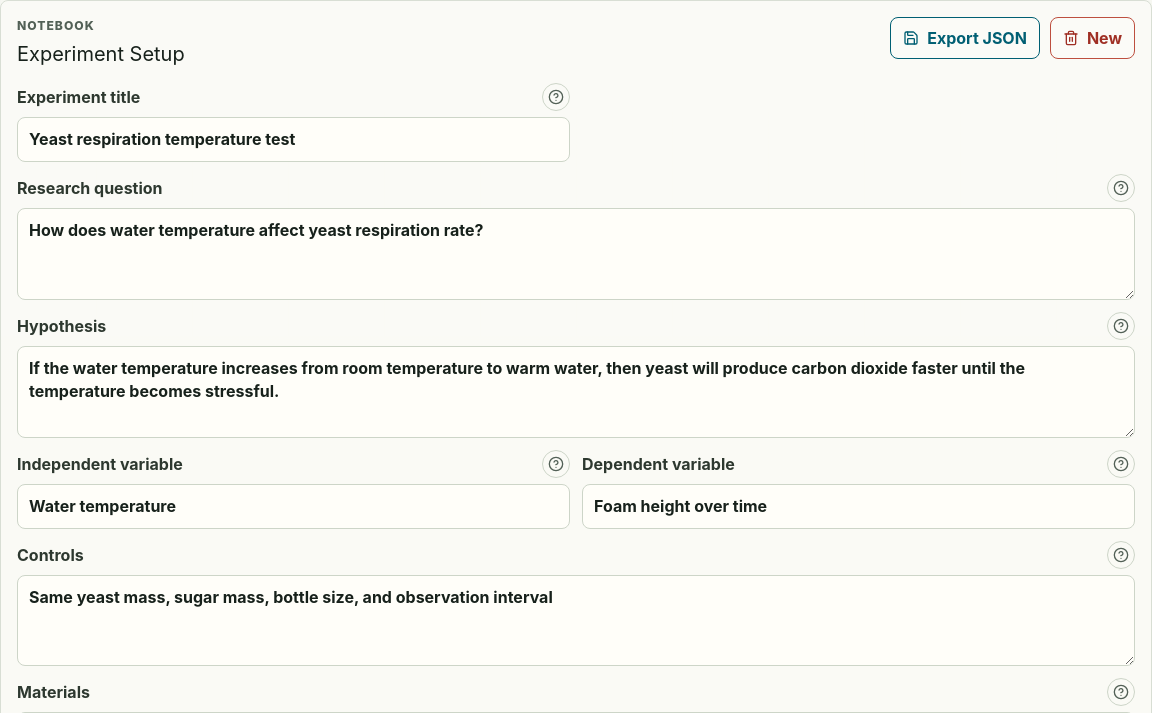
Test: ExperimentSetup › collapses an open hint when its toggle is pressed a second time
This screenshot has width=1152, height=713.
Click the button named "what does \"hypothesis\" mean" at (1121, 326), box [1107,312,1135,340]
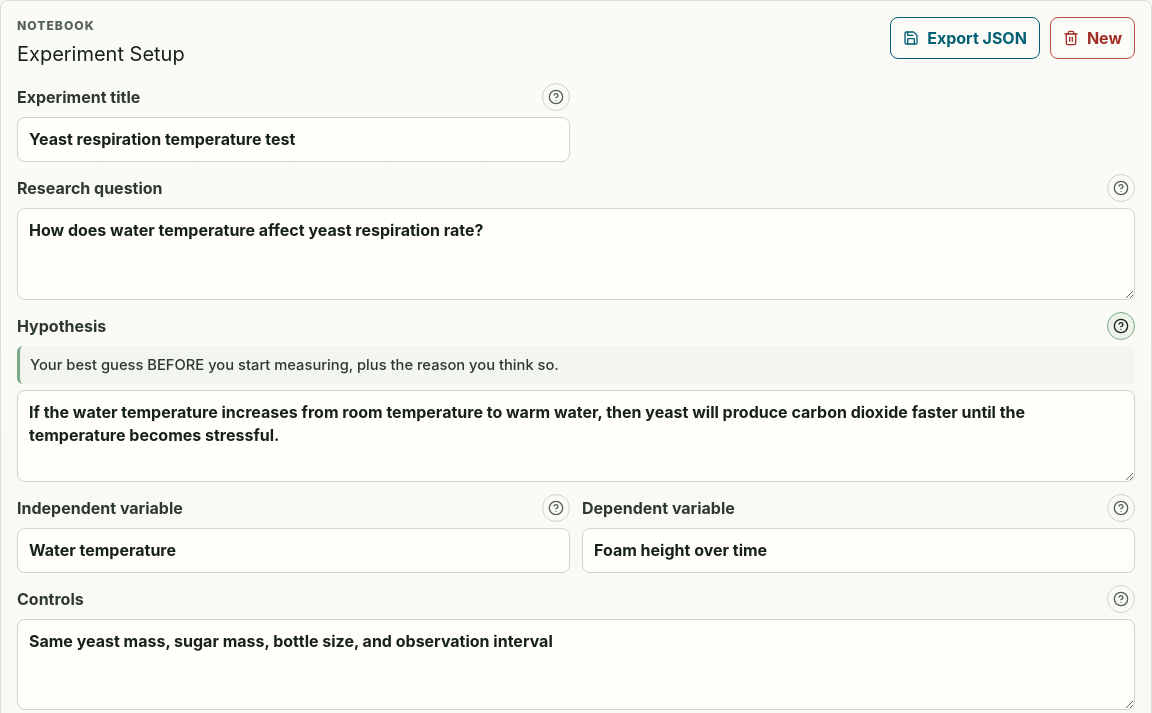
Expected: the text "best guess BEFORE you start measuring" is shown, [30,356,559,374]
Click the button named "what does \"hypothesis\" mean" at (1121, 326), box [1107,312,1135,340]
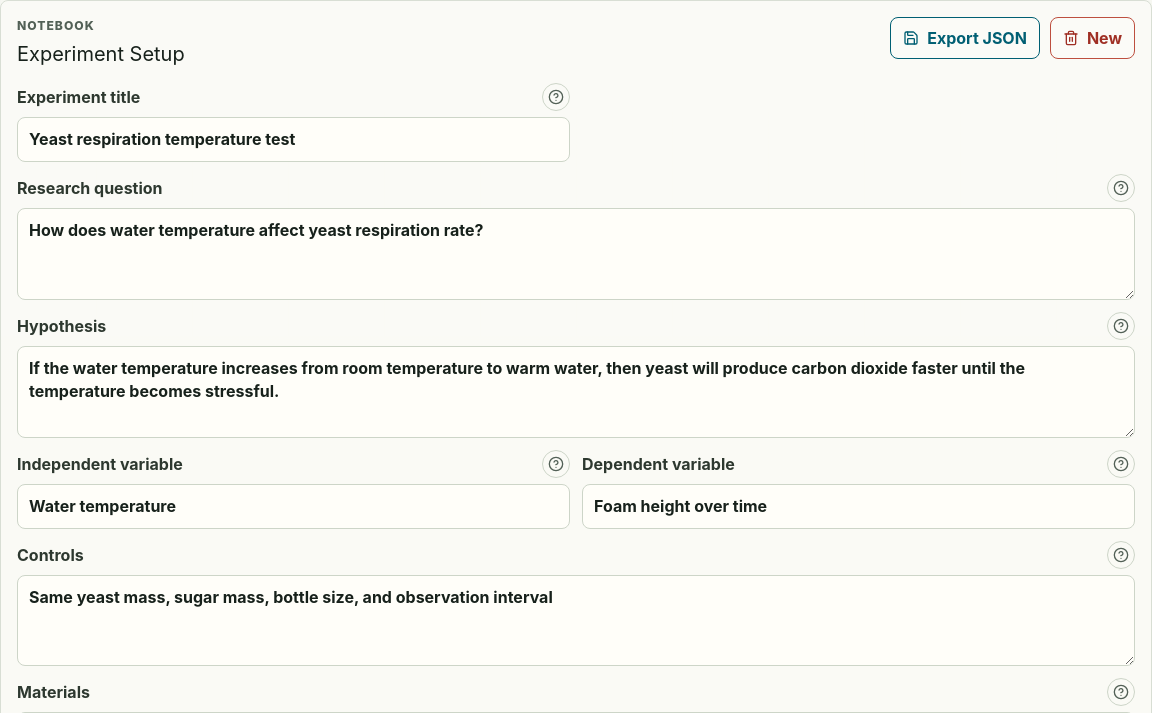
Expected: the text "best guess BEFORE you start measuring" is gone
